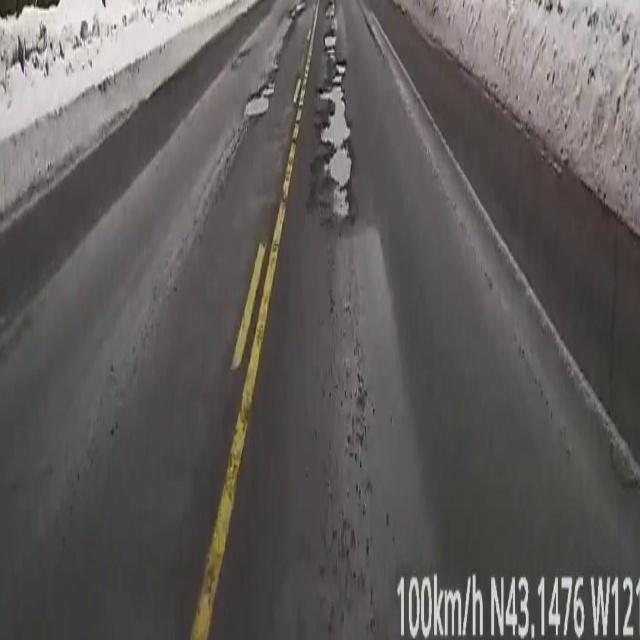pothole: (319, 0, 352, 221), (245, 78, 275, 116)
